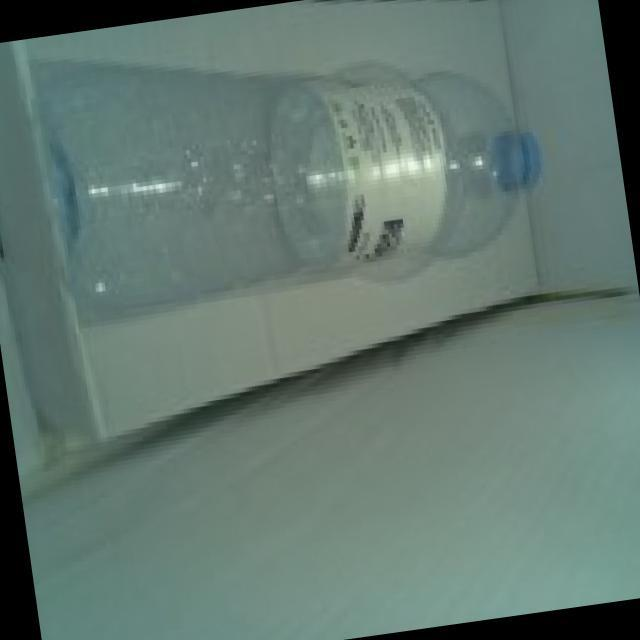good: (8, 0, 578, 376)
